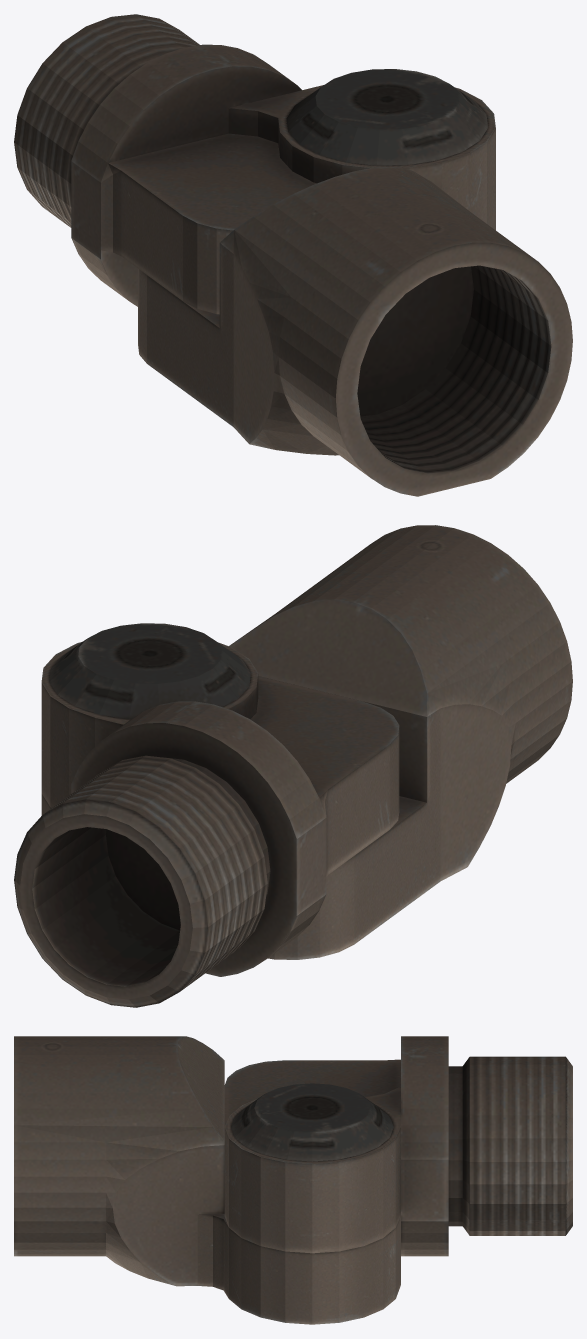
3 renders of one model, top to bottom at view 1: azimuth 30°, elevation 25°; view 2: azimuth 150°, elevation 25°; view 3: azimuth 270°, elevation 25°, orthographic. The views are drawn at different scales.
Visible parts, largest first — view 1: TW_5cde77a9d7f00c000f261009_PZ_Import; view 2: TW_5cde77a9d7f00c000f261009_PZ_Import; view 3: TW_5cde77a9d7f00c000f261009_PZ_Import.
Part boxes in pixels (x1,y1,x2,y2): TW_5cde77a9d7f00c000f261009_PZ_Import: (14, 14, 572, 496); TW_5cde77a9d7f00c000f261009_PZ_Import: (14, 525, 572, 1007); TW_5cde77a9d7f00c000f261009_PZ_Import: (14, 1036, 572, 1324).
Bounding box in the file's own units: 0.0291 × 0.0528 × 0.0203.
Materials: 1 (1 with a texture image).
